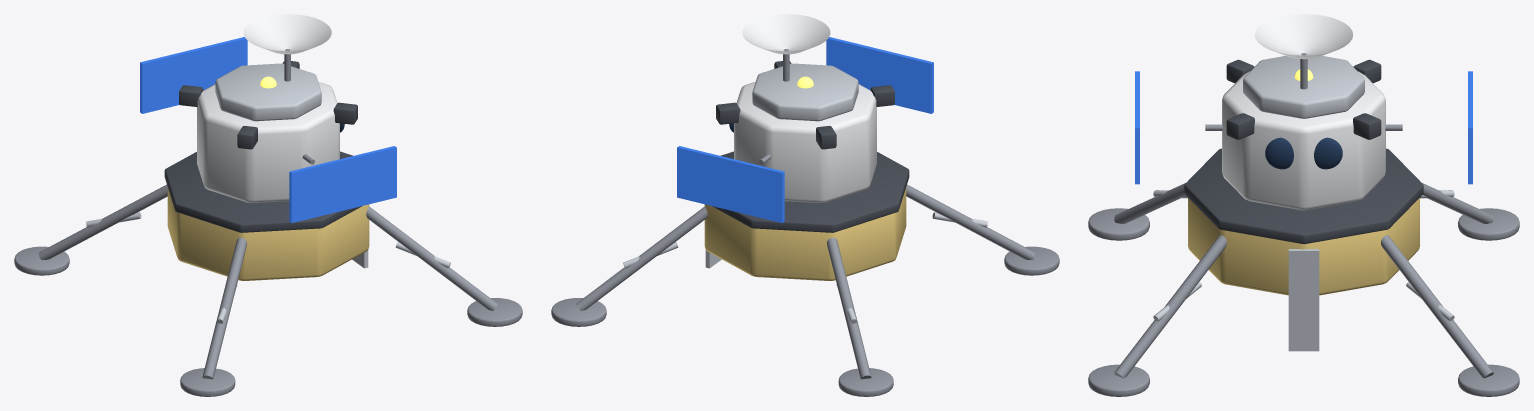
Rendered from lander.glb.
The picture shows the model from 3 angles, left to right: view 1: azimuth 30°, elevation 25°; view 2: azimuth 150°, elevation 25°; view 3: azimuth 270°, elevation 25°; orthographic projection. The views are drawn at different scales.
Visible parts, largest first — view 1: ascent, descent, panel_-1, descent_ring, ascent_cap, panel_1, dish, leg.002, leg.001, leg, foot, foot.002 (+2 smaller); view 2: ascent, descent, panel_1, descent_ring, ascent_cap, panel_-1, dish, leg.003, leg, leg.001, foot.001, foot.003 (+2 smaller); view 3: ascent, descent, descent_ring, ascent_cap, dish, ladder, leg.002, leg.003, foot.002, foot.003, foot, foot.001 (+10 smaller).
Part boxes in pixels (x1,y1,x2,y2): ascent: [197, 82, 339, 202]; descent: [167, 187, 369, 280]; panel_-1: [289, 146, 396, 223]; descent_ring: [164, 151, 361, 232]; ascent_cap: [215, 63, 321, 121]; panel_1: [140, 37, 247, 113]; dish: [243, 14, 331, 54]; leg.002: [366, 206, 497, 310]; leg.001: [38, 184, 167, 259]; leg: [202, 237, 246, 379]; foot: [180, 368, 235, 396]; foot.002: [467, 298, 522, 326]; ascent: [734, 82, 876, 202]; descent: [704, 187, 906, 280]; panel_1: [677, 146, 784, 223]; descent_ring: [712, 151, 909, 232]; ascent_cap: [752, 63, 858, 121]; panel_-1: [826, 37, 933, 113]; dish: [742, 14, 830, 54]; leg.003: [576, 206, 707, 310]; leg: [906, 184, 1035, 259]; leg.001: [827, 237, 871, 379]; foot.001: [838, 368, 893, 396]; foot.003: [551, 298, 606, 326]; ascent: [1222, 71, 1385, 210]; descent: [1188, 198, 1419, 295]; descent_ring: [1184, 148, 1423, 244]; ascent_cap: [1243, 56, 1364, 118]; dish: [1254, 14, 1353, 59]; ladder: [1288, 249, 1319, 351]; leg.002: [1114, 235, 1226, 378]; leg.003: [1381, 235, 1493, 378]; foot.002: [1088, 364, 1149, 396]; foot.003: [1458, 364, 1519, 396]; foot: [1088, 208, 1149, 240]; foot.001: [1458, 208, 1519, 240].
Bounding box in the file's own units: 7 × 5.05 × 7.
